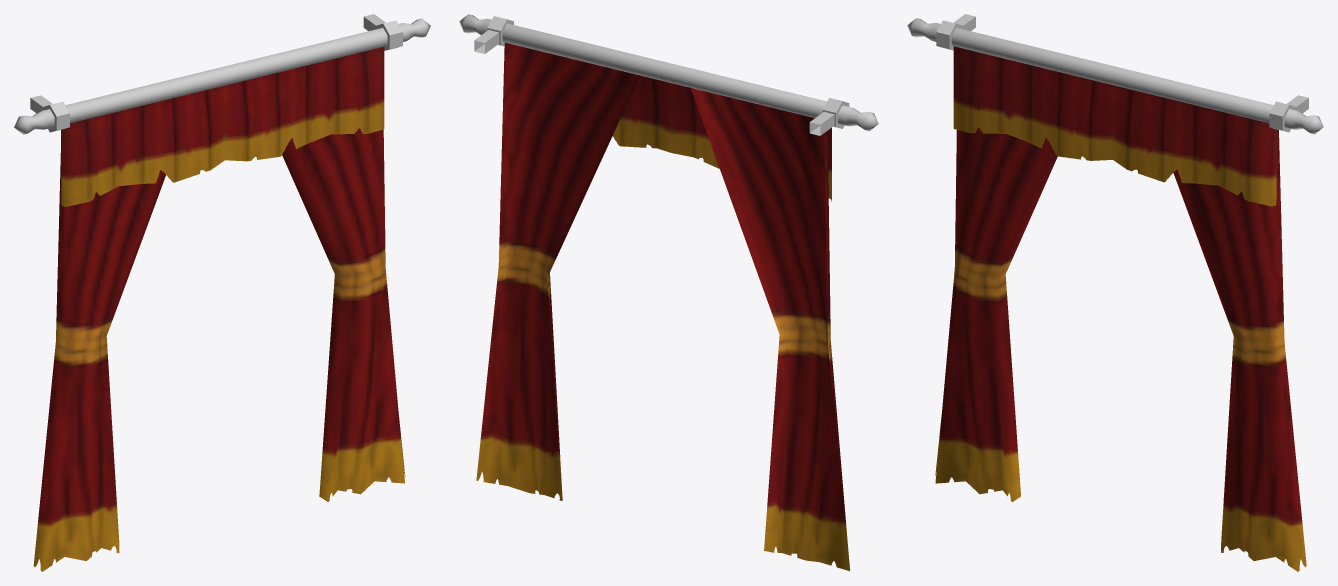
File: Curtain_1A.fbx
The picture shows the model from 3 angles, left to right: view 1: azimuth 30°, elevation 25°; view 2: azimuth 150°, elevation 25°; view 3: azimuth 330°, elevation 25°; orthographic projection.
Visible parts, largest first — view 1: Alpha, polySurface7894; view 2: Alpha, polySurface7894; view 3: Alpha, polySurface7894.
Part boxes in pixels (x1=…): Alpha: x1=33, y1=47, x2=405, y2=571; polySurface7894: x1=14, y1=14, x2=430, y2=134; Alpha: x1=476, y1=42, x2=850, y2=571; polySurface7894: x1=459, y1=14, x2=878, y2=135; Alpha: x1=935, y1=46, x2=1306, y2=571; polySurface7894: x1=907, y1=14, x2=1323, y2=134.
Bounding box in the file's own units: 3.14 × 3.35 × 0.359.
